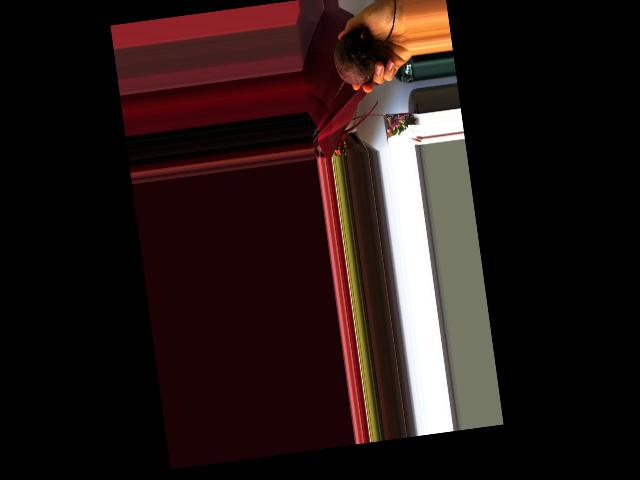beet: (320, 0, 408, 99)
